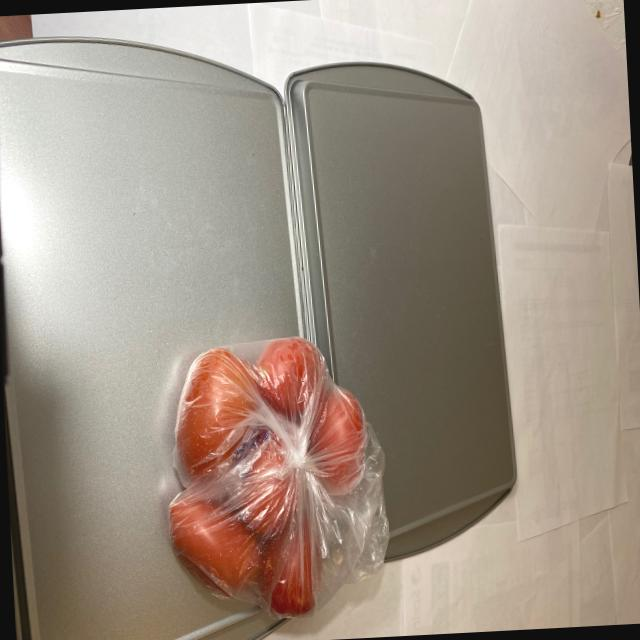tomato: (150, 327, 376, 625)
